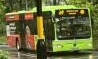bus: (56, 9, 65, 16)
